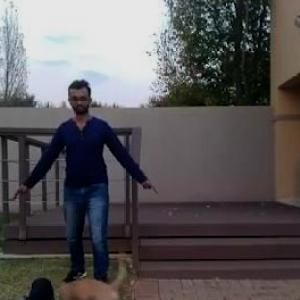land: (26, 78, 152, 296)
